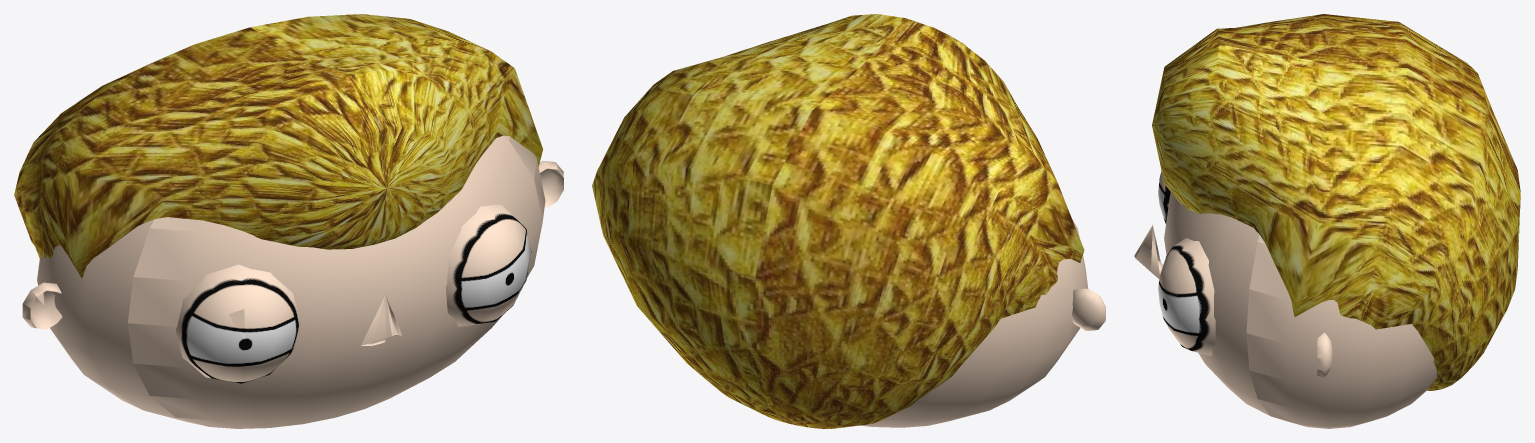
File: Cabeza.obj
3 views of the same model, side by side, from view 1: azimuth 30°, elevation 25°; view 2: azimuth 150°, elevation 25°; view 3: azimuth 270°, elevation 25° (orthographic). The views are drawn at different scales.
Visible parts, largest first — view 1: cabeza; view 2: cabeza; view 3: cabeza.
Boxes of the visible parts, box(x1,y1,x2,y2) form: cabeza: box(14, 14, 563, 428); cabeza: box(592, 14, 1105, 428); cabeza: box(1134, 14, 1520, 428).
Size of the model in its own units: 5.79 by 3.84 by 3.83.
Materials: 3 (3 with a texture image).
